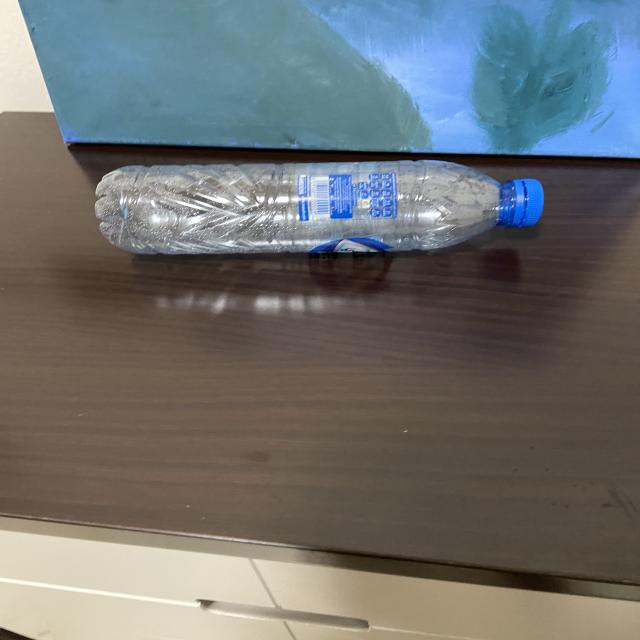bottle: (91, 158, 548, 258)
